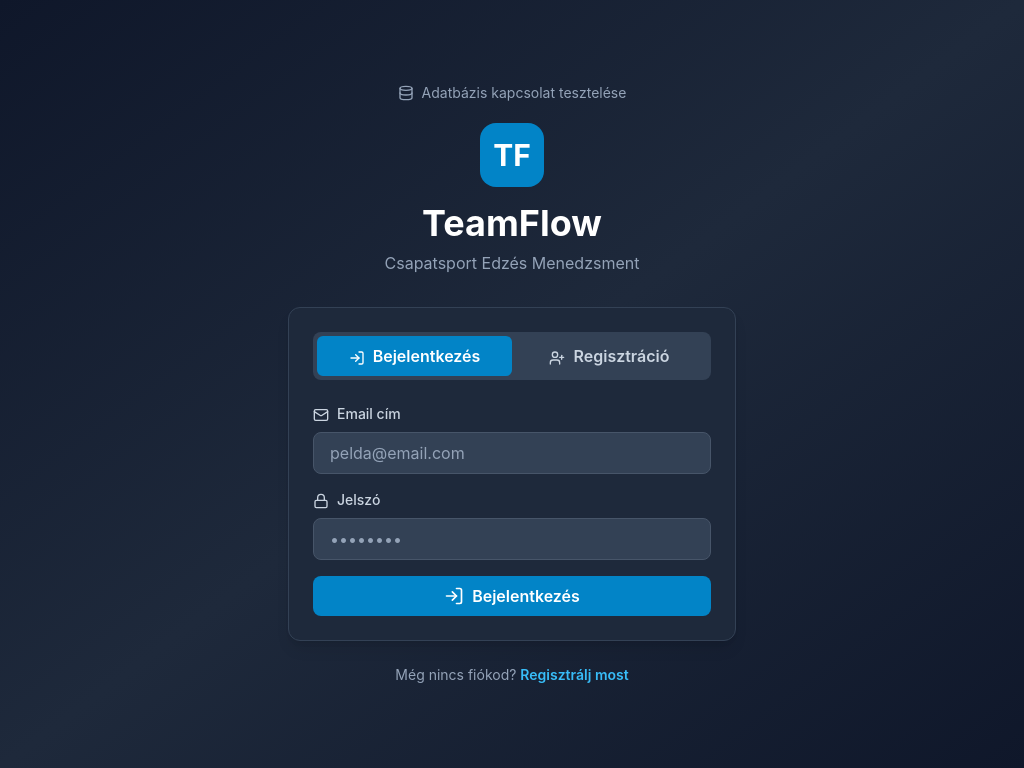
Auth form › surfaces an error message to the user when login fails
Type "edzo@teamflow.hu" into the field labelled "Email cím". click: (512, 453)
box: [313,432,711,474]
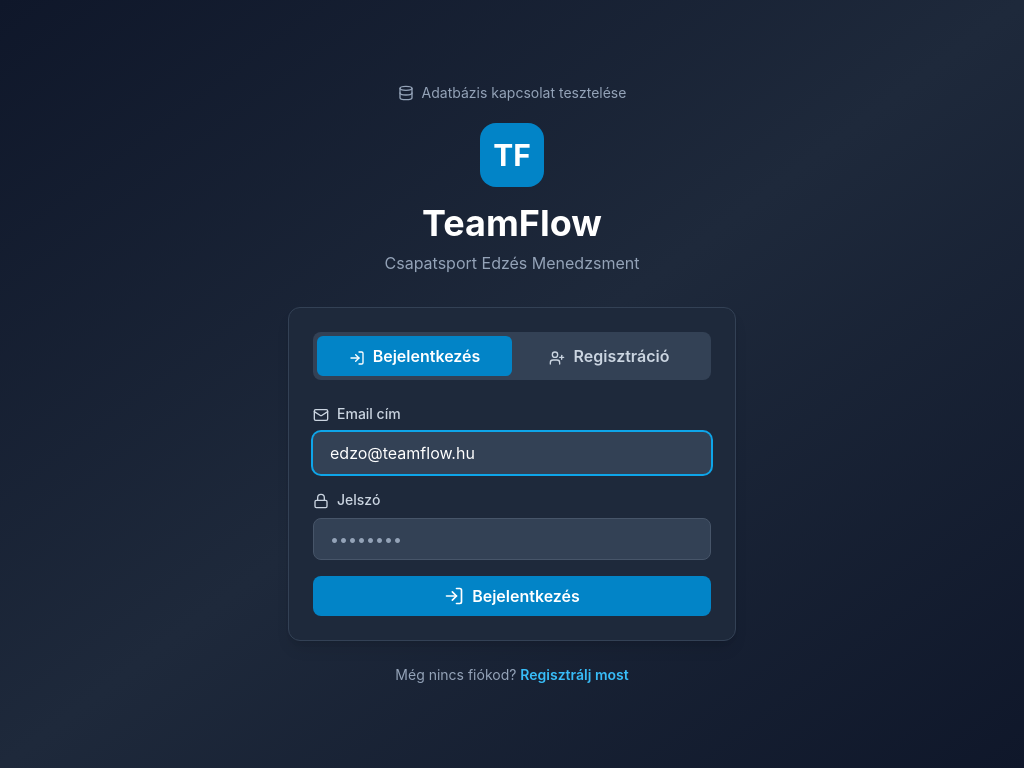
Type "rosszjelszo" into the password field labelled "Jelszó". click: (512, 539)
box: [313,518,711,560]
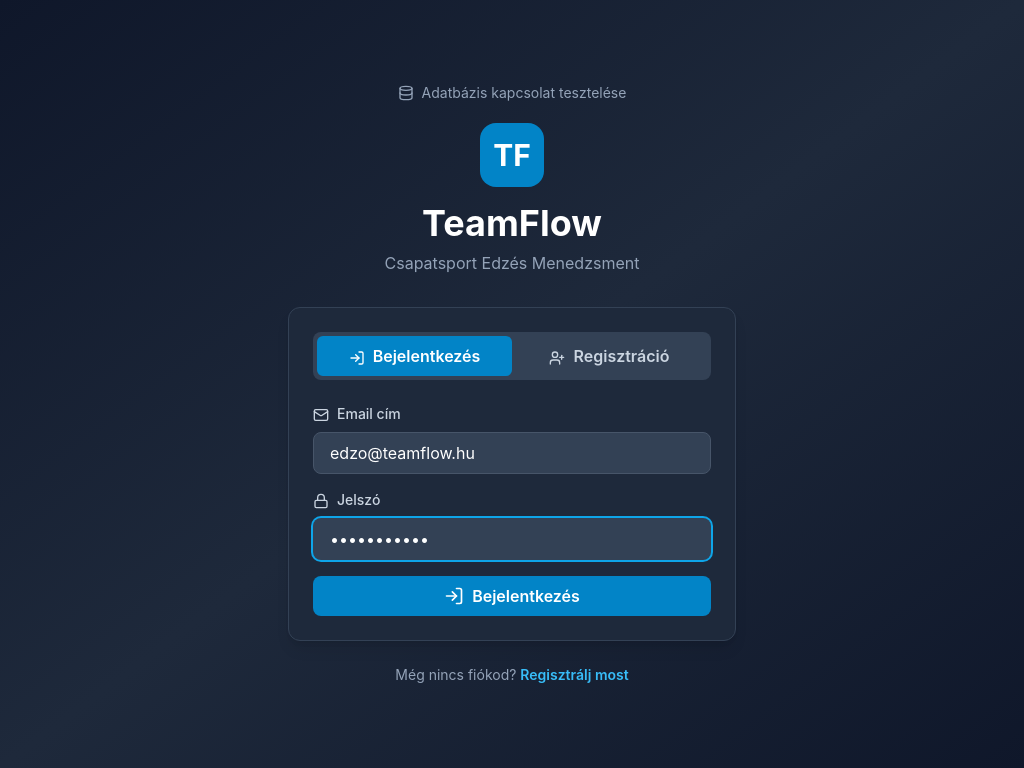
Click the button "Bejelentkezés" below "Jelszó". click: (512, 596)
box: [313,576,711,616]
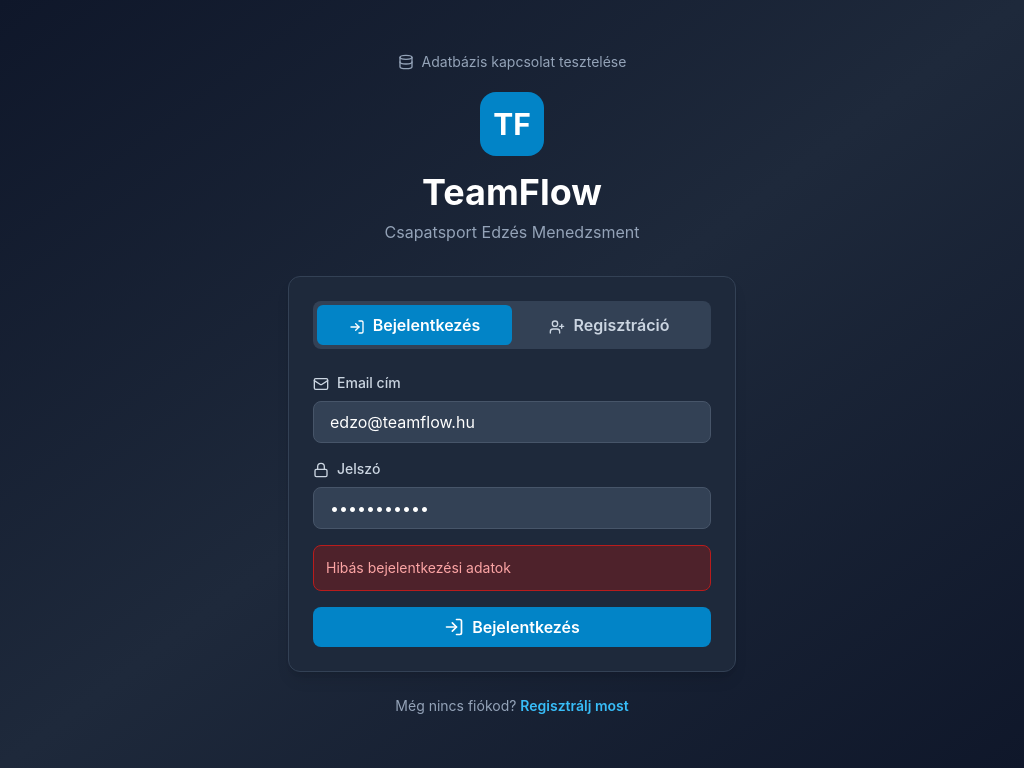
Now the text "Hibás bejelentkezési adatok" is shown, box [313,545,711,591]
